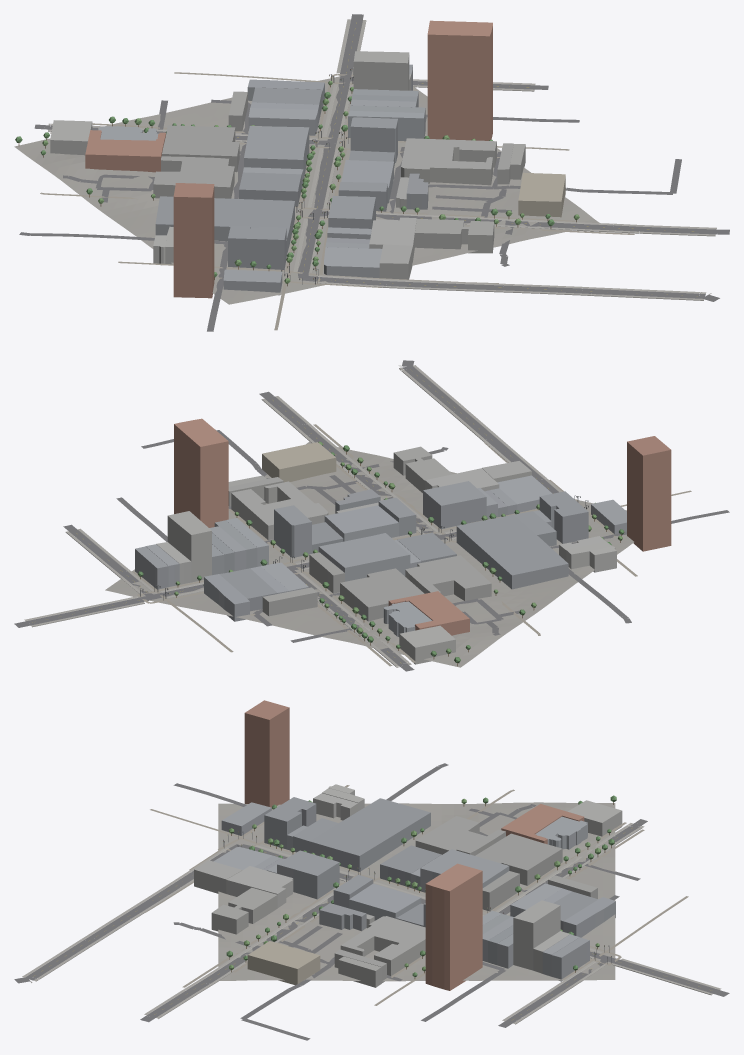
Rendered from tile_-7_2.glb.
3 renders of one model, top to bottom at view 1: azimuth 30°, elevation 25°; view 2: azimuth 150°, elevation 25°; view 3: azimuth 270°, elevation 25°, orthographic. The views are drawn at different scales.
Parts seen in each view (by area): view 1: buildings, terrain, roads, sidewalks, paths, props; view 2: buildings, terrain, roads, sidewalks, paths, props; view 3: buildings, terrain, roads, sidewalks, paths, props.
Part boxes in pixels (x1,y1,x2,y2): buildings: [50, 20, 565, 298]; terrain: [14, 74, 599, 304]; roads: [19, 14, 729, 331]; sidewalks: [48, 19, 716, 300]; paths: [40, 72, 634, 330]; props: [15, 68, 579, 286]; buildings: [135, 418, 671, 664]; terrain: [105, 441, 633, 667]; roads: [14, 360, 729, 671]; sidewalks: [24, 365, 561, 667]; paths: [132, 424, 691, 666]; props: [138, 441, 624, 666]; buildings: [194, 700, 622, 990]; terrain: [218, 802, 615, 981]; roads: [14, 763, 729, 1040]; sidewalks: [22, 823, 721, 1024]; paths: [145, 785, 688, 1005]; props: [223, 795, 616, 978].
Size of the model in its own units: 405 by 72.47 by 462.
